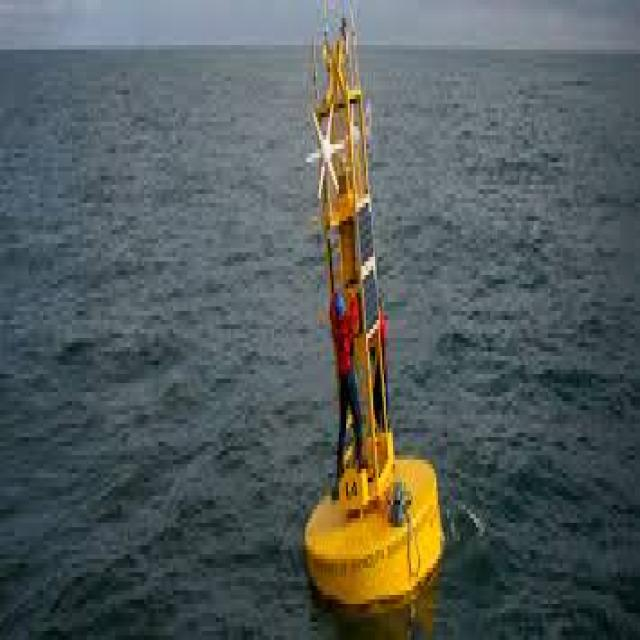buoy: (298, 1, 442, 627)
